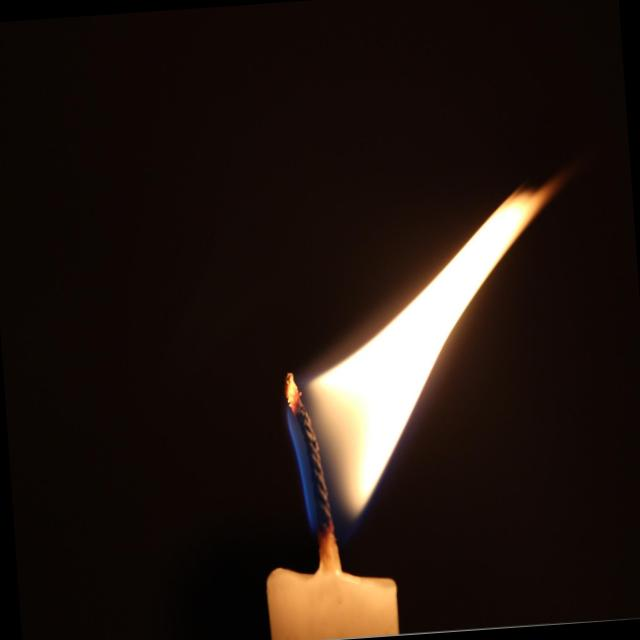Fire_Save: (266, 157, 602, 550)
